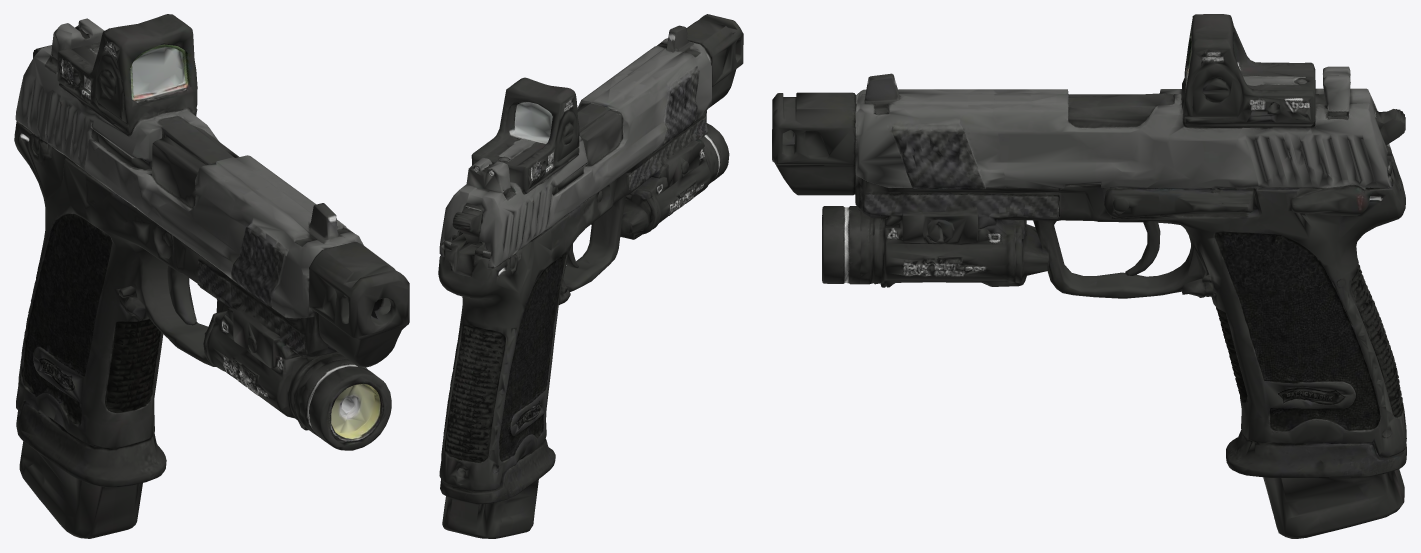
File: rn_warden9.glb
The picture shows the model from 3 angles, left to right: view 1: azimuth 30°, elevation 25°; view 2: azimuth 150°, elevation 25°; view 3: azimuth 270°, elevation 25°; orthographic projection. The views are drawn at different scales.
Visible parts, largest first — view 1: tripo_node_1e404abb-1705-4e83-826d-3633e31fae1a; view 2: tripo_node_1e404abb-1705-4e83-826d-3633e31fae1a; view 3: tripo_node_1e404abb-1705-4e83-826d-3633e31fae1a.
Part boxes in pixels (<box>): tripo_node_1e404abb-1705-4e83-826d-3633e31fae1a: <box>14,14,409,538</box>; tripo_node_1e404abb-1705-4e83-826d-3633e31fae1a: <box>438,14,743,538</box>; tripo_node_1e404abb-1705-4e83-826d-3633e31fae1a: <box>772,14,1406,538</box>.
Size of the model in its own units: 0.1614 by 0.8522 by 0.9803.
Materials: 1 (1 with a texture image).
